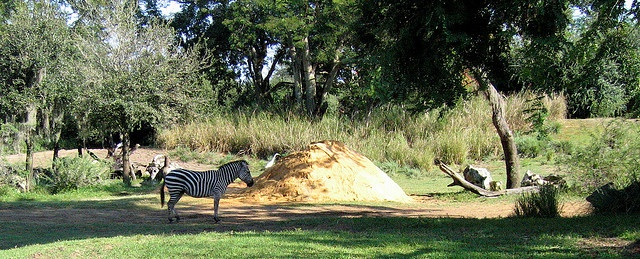zebra: (159, 159, 253, 222)
